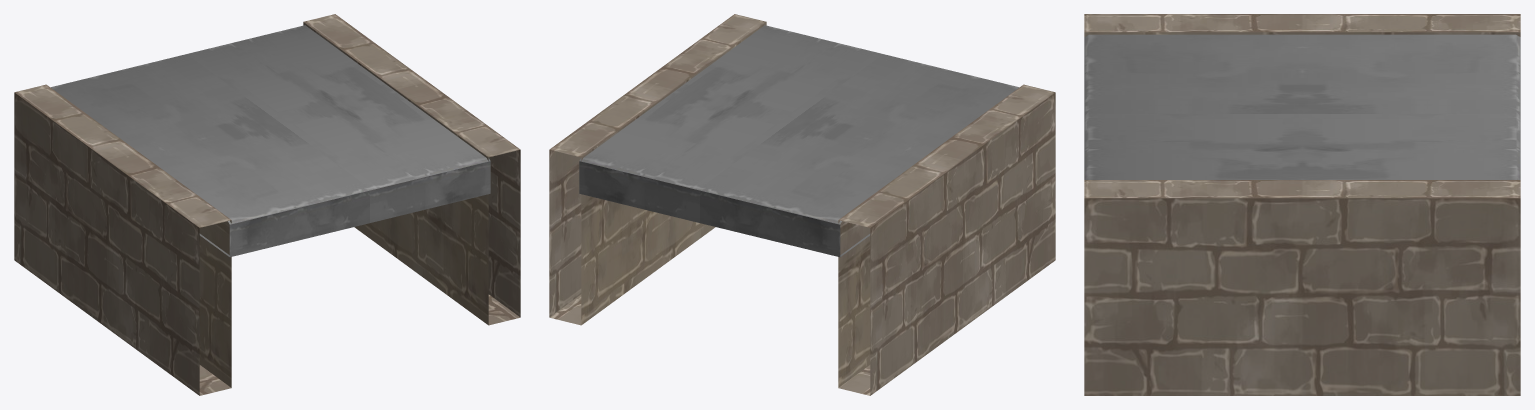
The model's file is Stairs_Exterior_Platform.gltf.
3 views of the same model, side by side, from view 1: azimuth 30°, elevation 25°; view 2: azimuth 150°, elevation 25°; view 3: azimuth 270°, elevation 25° (orthographic). The views are drawn at different scales.
Parts seen in each view (by area): view 1: Stairs_Exterior_Platform; view 2: Stairs_Exterior_Platform; view 3: Stairs_Exterior_Platform.
Boxes of the visible parts, left/top/right/bottom form: Stairs_Exterior_Platform: left=14, top=14, right=520, bottom=395; Stairs_Exterior_Platform: left=549, top=14, right=1055, bottom=395; Stairs_Exterior_Platform: left=1084, top=14, right=1520, bottom=395.
Size of the model in its own units: 2 by 1 by 2.
2 materials, 2 textured.
